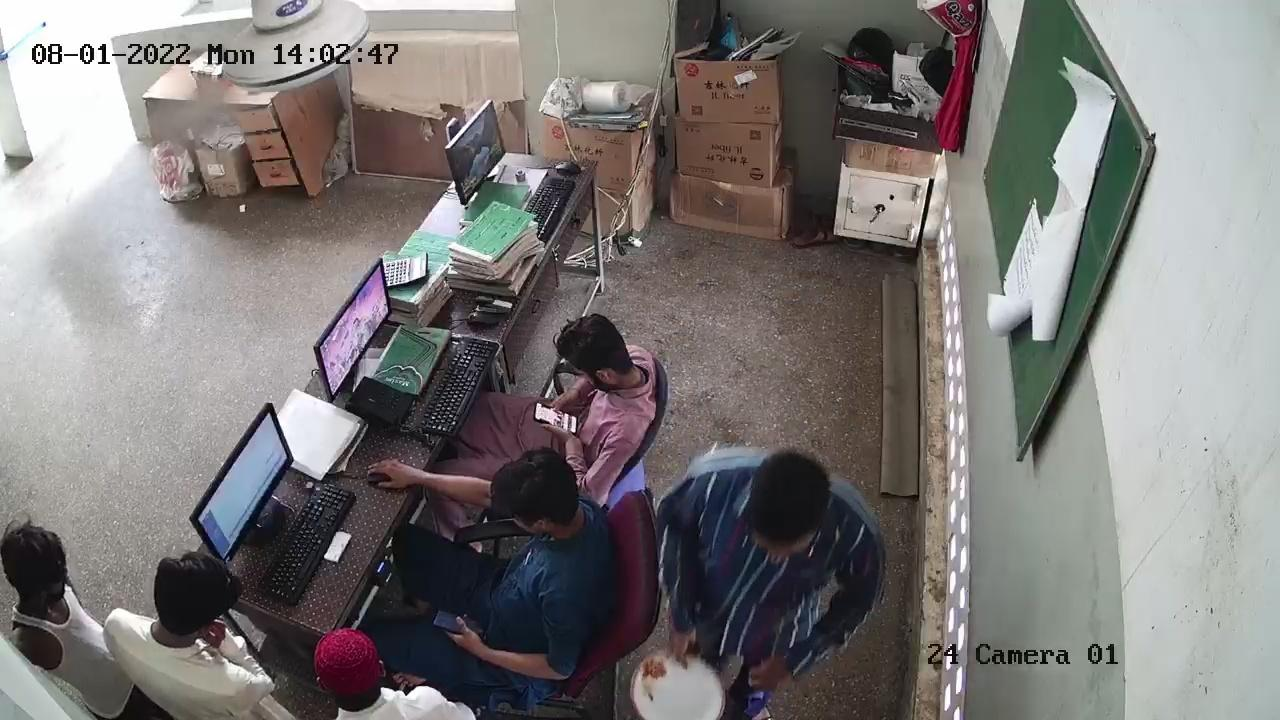person: (652, 435, 875, 688), (394, 452, 611, 692), (107, 550, 279, 720), (477, 318, 641, 478), (4, 512, 127, 700), (309, 627, 484, 720)
